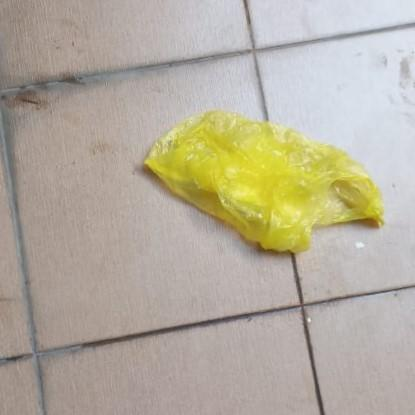Plastik: (144, 110, 387, 253)
